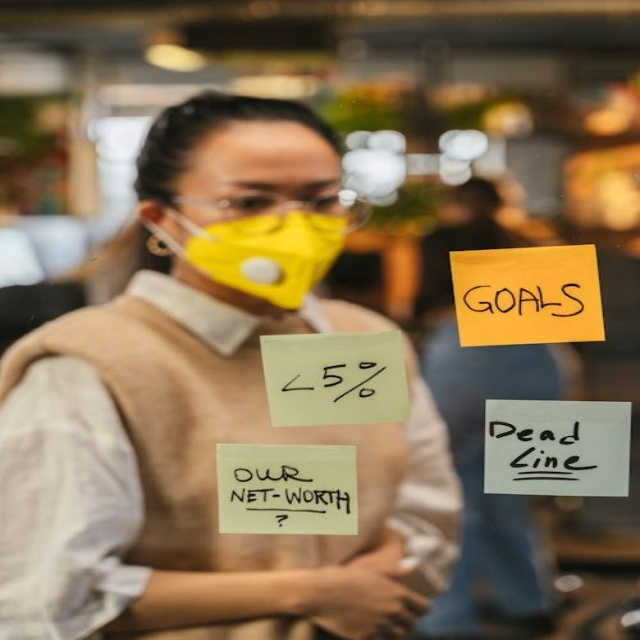Gafas: (164, 189, 372, 233)
Mascara: (169, 207, 357, 310)
Sin_guantes: (291, 563, 435, 640)
